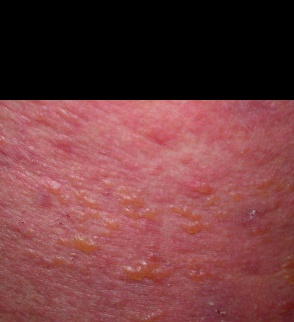SJS-TEN: (3, 168, 294, 319)
